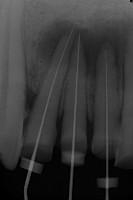Furcation Involvement: (36, 15, 133, 78)
